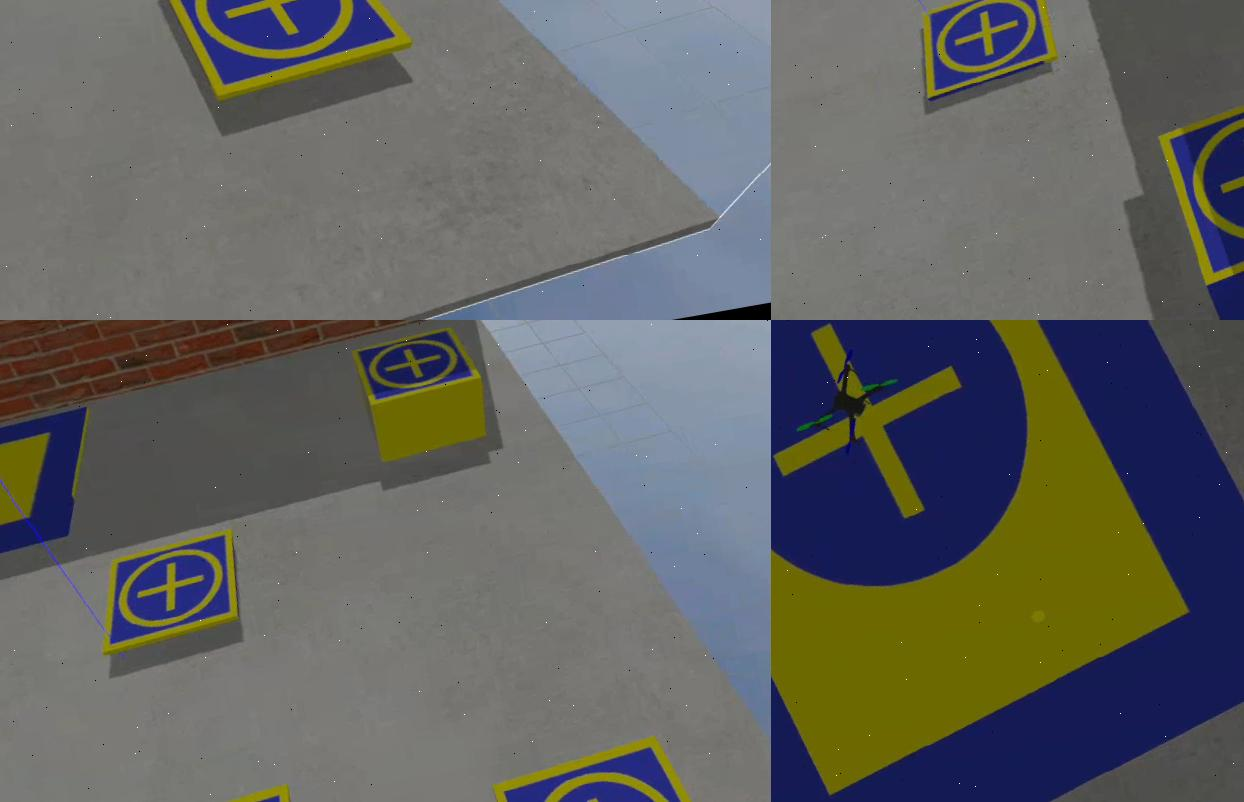large_base: (772, 321, 1244, 802), (1, 408, 112, 578)
small_base: (153, 1, 419, 113), (1154, 72, 1244, 291), (86, 535, 250, 655), (490, 729, 738, 802), (910, 1, 1062, 102), (351, 322, 486, 409)
